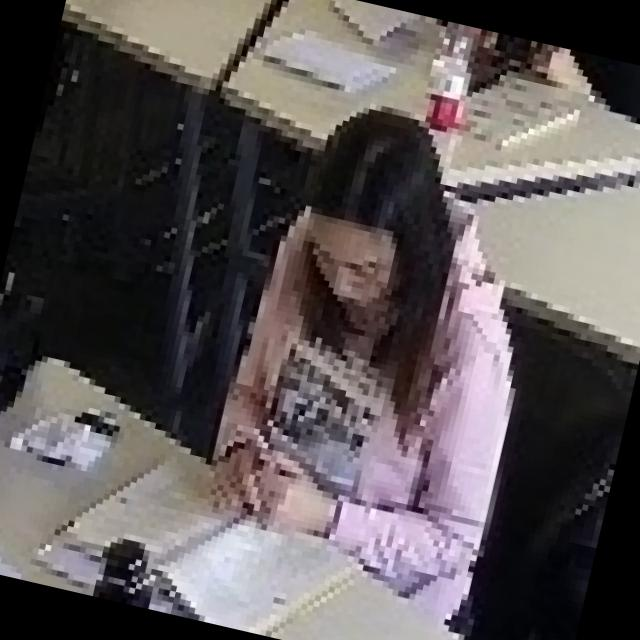write: (151, 80, 577, 640)
